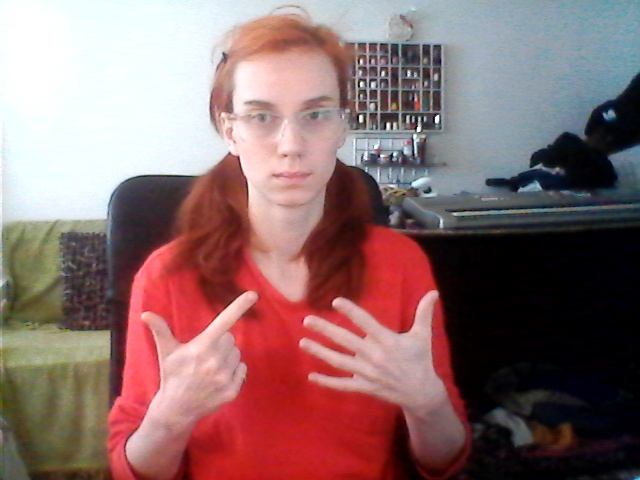sedem: (136, 284, 459, 413)
